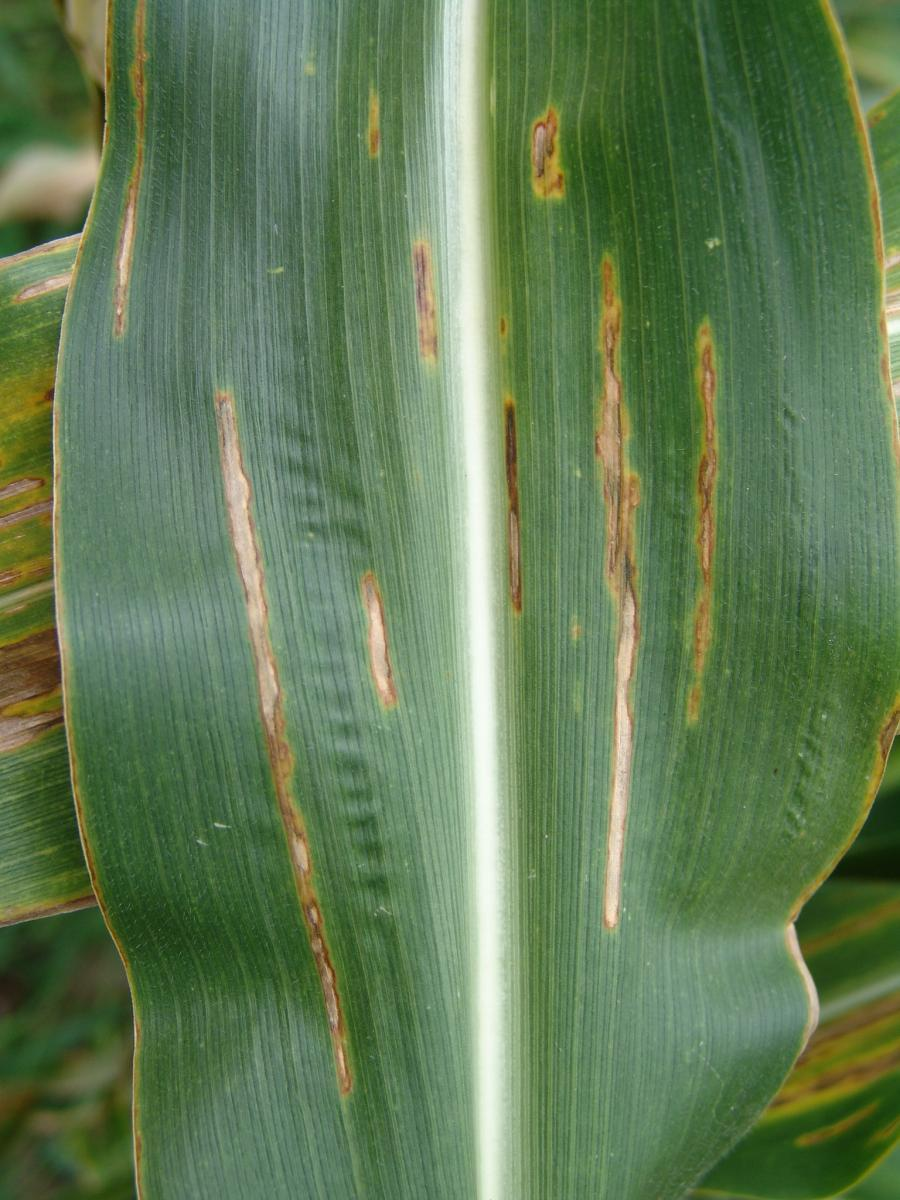Corn_Blight: (505, 57, 758, 992), (190, 342, 424, 1128), (13, 235, 73, 885), (63, 5, 163, 383), (338, 58, 465, 323)
